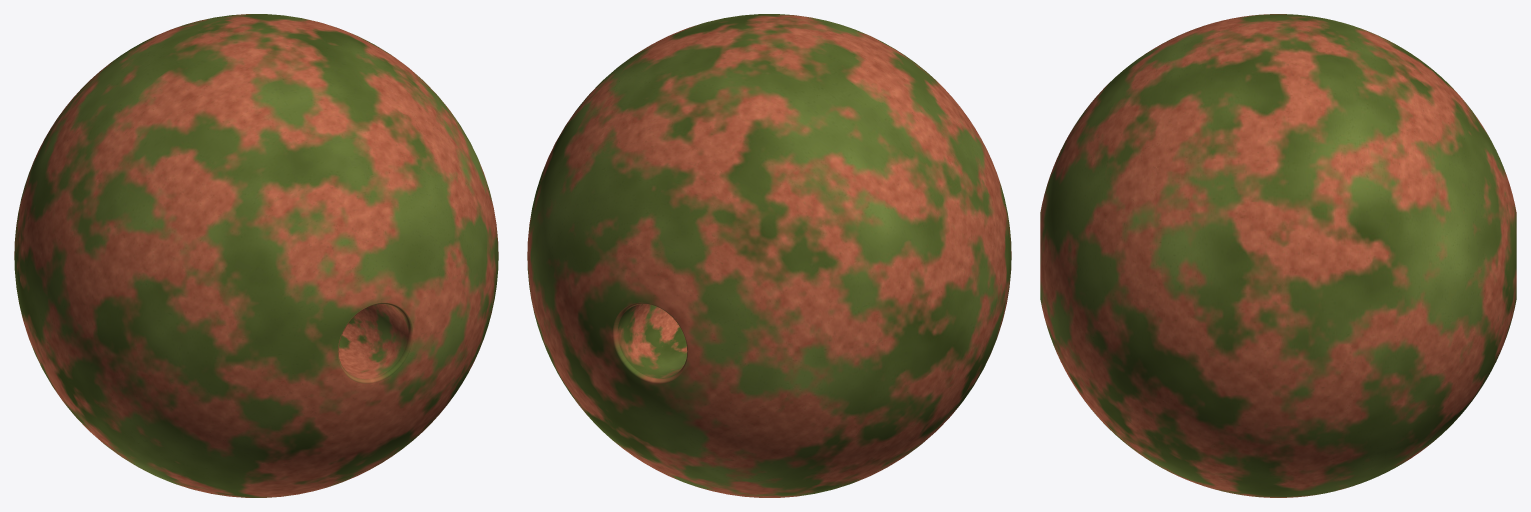
The model's file is unakite-6mm.glb.
3 views of the same model, side by side, from view 1: azimuth 30°, elevation 25°; view 2: azimuth 150°, elevation 25°; view 3: azimuth 270°, elevation 25° (orthographic).
Parts seen in each view (by area): view 1: unakite.001; view 2: unakite.001; view 3: unakite.001.
Boxes of the visible parts, x1,y1,x2,y2 form: unakite.001: [14, 14, 498, 497]; unakite.001: [527, 14, 1011, 497]; unakite.001: [1040, 14, 1516, 497].
Bounding box in the file's own units: 0.006 × 0.006 × 0.0059.
Materials: 1 (1 with a texture image).
